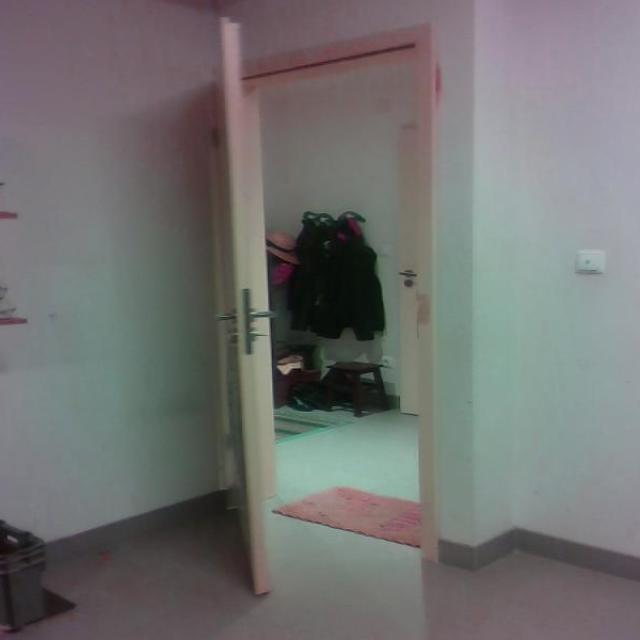door: (195, 19, 289, 596)
